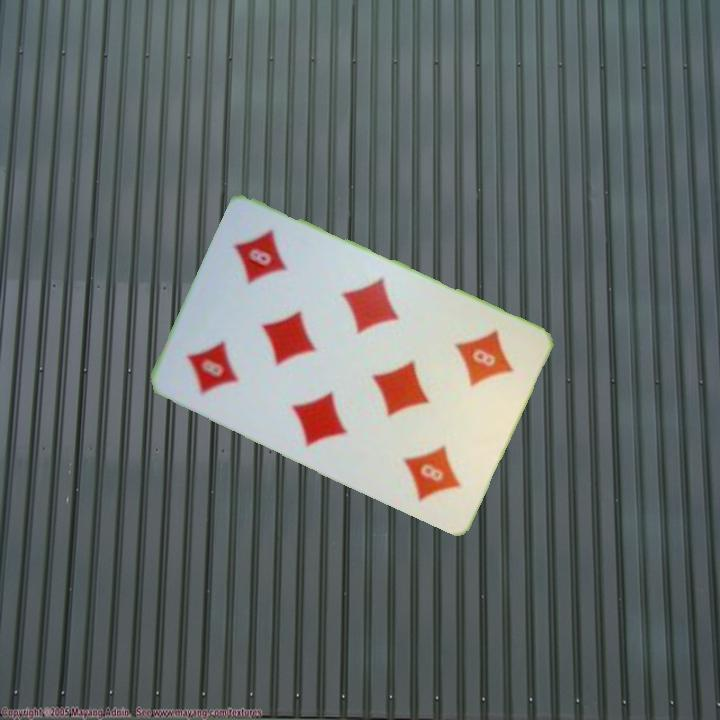d_8.png: (164, 295, 282, 419), (417, 308, 535, 432)
